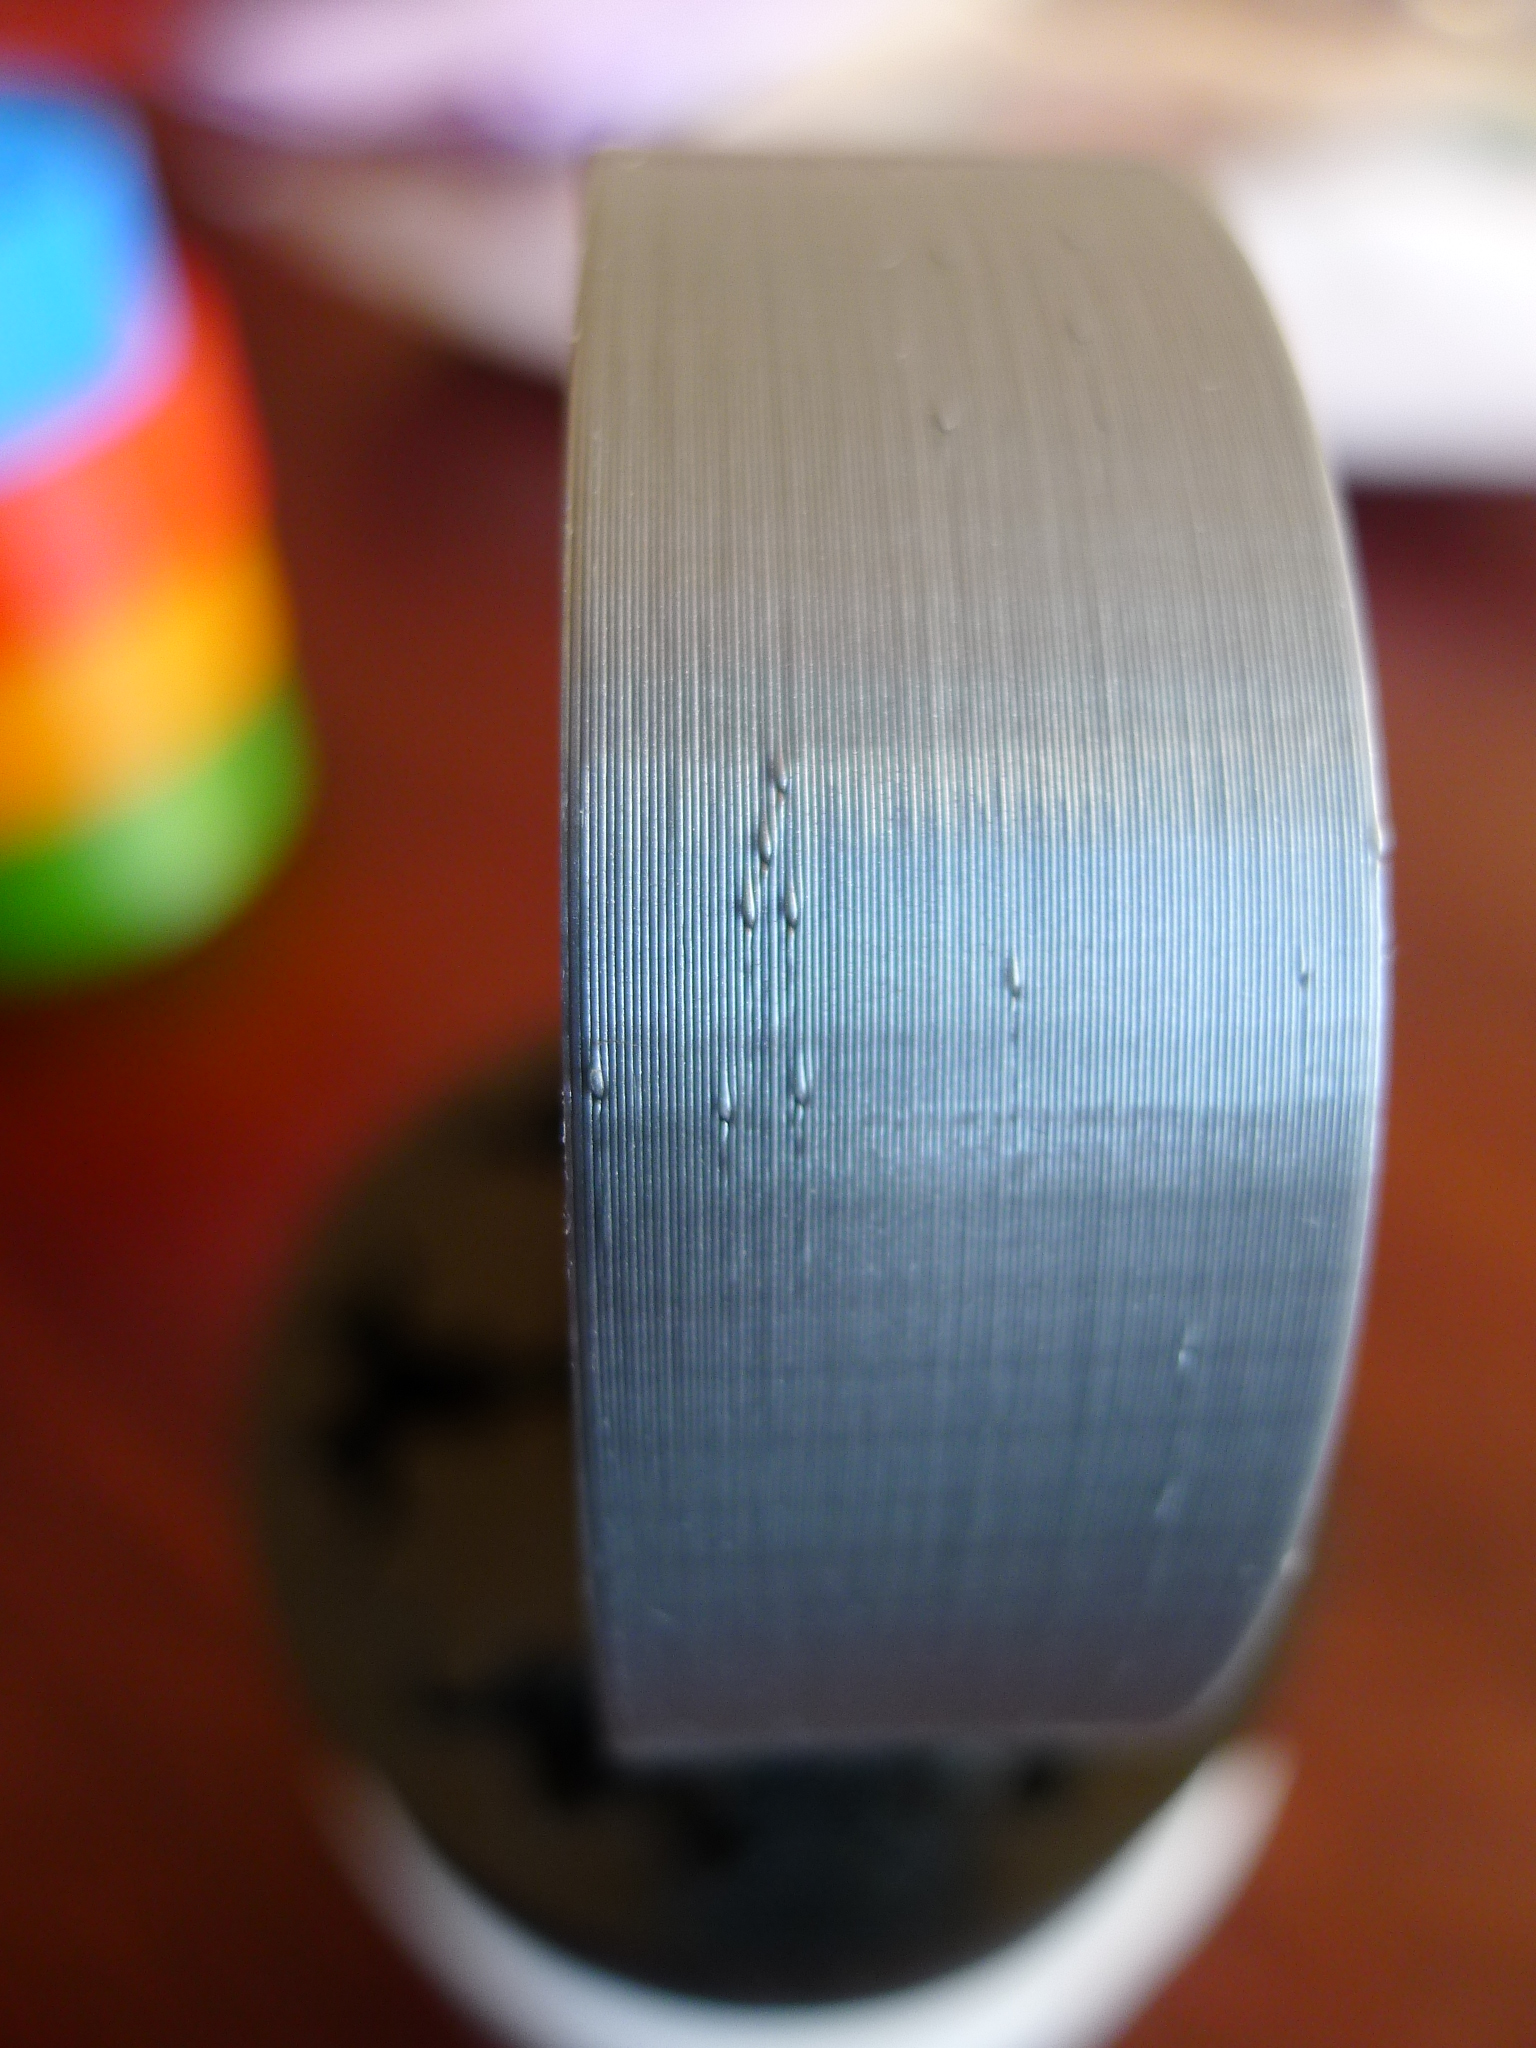blob: (705, 708, 841, 1221), (975, 934, 1066, 1042), (586, 1030, 649, 1134), (1165, 1306, 1212, 1390)
